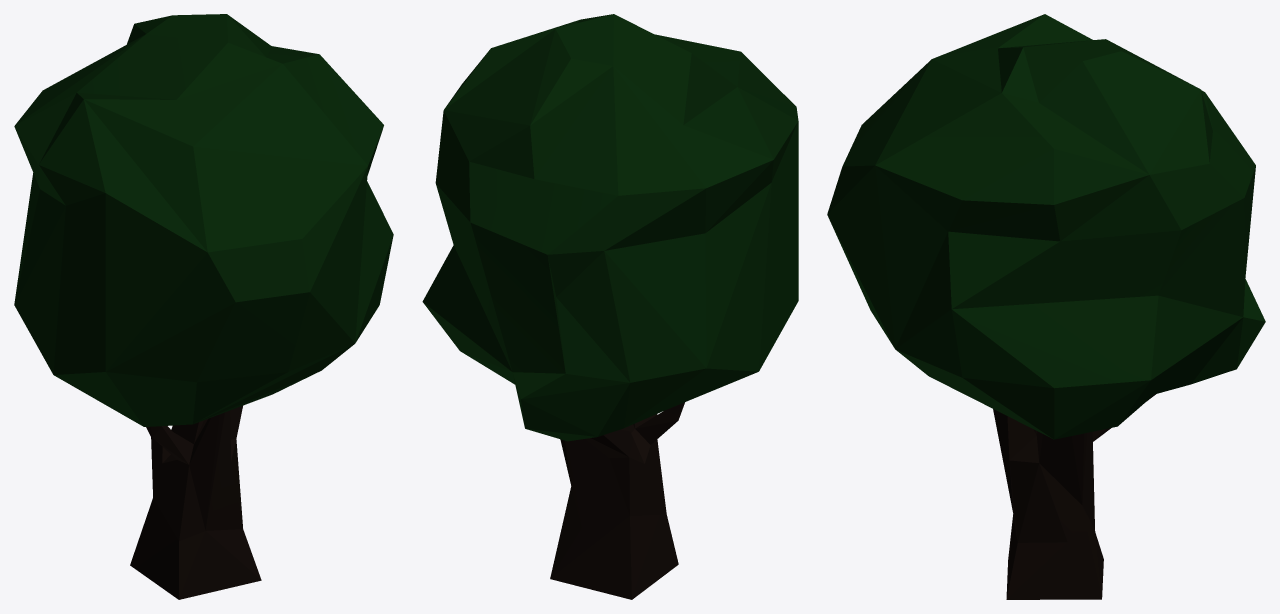
Rendered from Tree_LOD2.FBX.
The picture shows the model from 3 angles, left to right: view 1: azimuth 30°, elevation 25°; view 2: azimuth 150°, elevation 25°; view 3: azimuth 270°, elevation 25°; orthographic projection.
Visible parts, largest first — view 1: Tree_LOD2; view 2: Tree_LOD2; view 3: Tree_LOD2.
Part boxes in pixels (x1,y1,x2,y2): Tree_LOD2: (14,14,393,599); Tree_LOD2: (422,14,798,599); Tree_LOD2: (827,14,1265,599).
Size of the model in its own units: 251 by 408 by 300.
